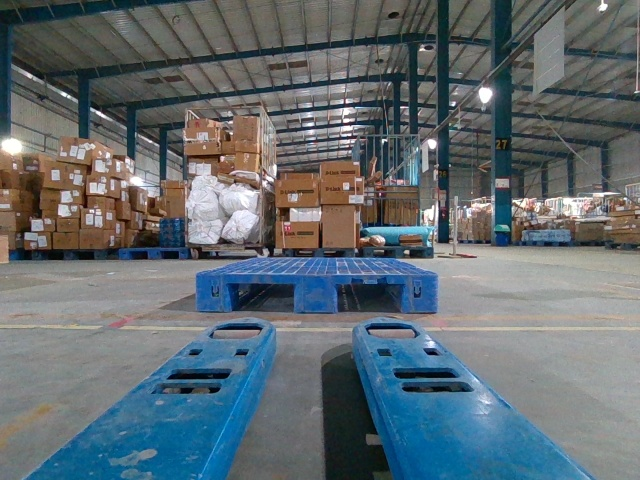block: (291, 275, 338, 314), (193, 274, 234, 316), (401, 273, 437, 313)
front: (194, 273, 437, 312)
hole pallet: (330, 278, 408, 318), (223, 279, 297, 313)
